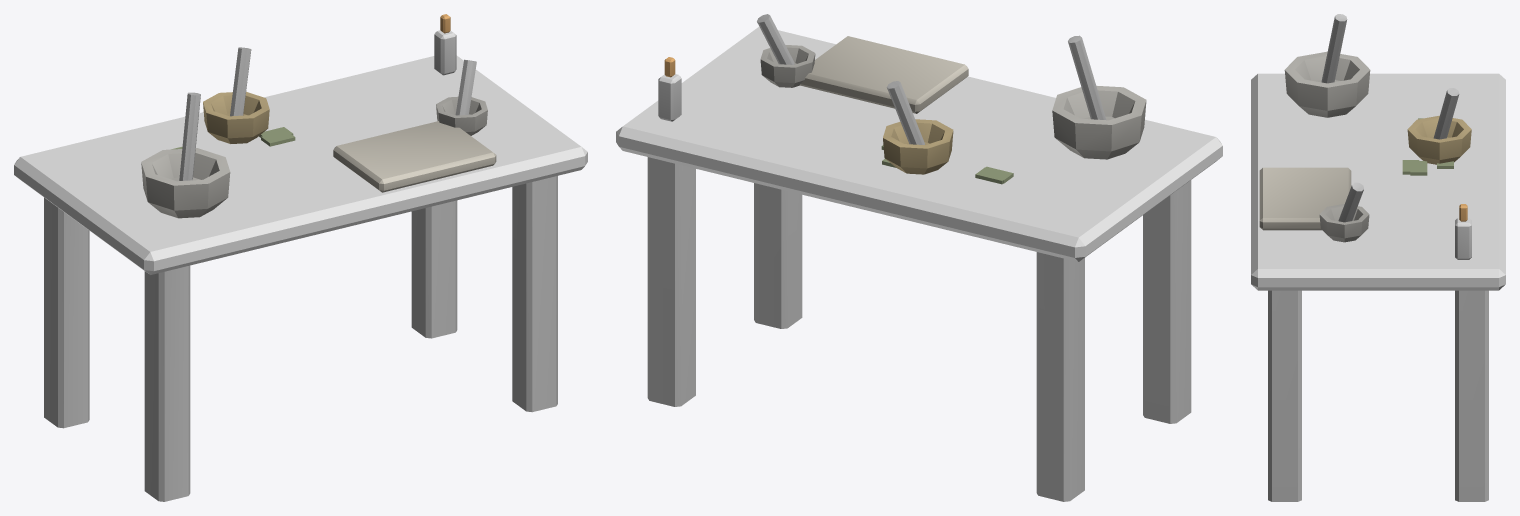
The model's file is lab_table.glb.
The picture shows the model from 3 angles, left to right: view 1: azimuth 30°, elevation 25°; view 2: azimuth 150°, elevation 25°; view 3: azimuth 270°, elevation 25°; orthographic projection. The views are drawn at different scales.
Parts seen in each view (by area): view 1: candle; view 2: candle; view 3: candle.
Boxes of the visible parts, x1,y1,x2,y2 form: candle: [14, 14, 587, 501]; candle: [616, 14, 1222, 501]; candle: [1251, 14, 1505, 501].
Size of the model in its own units: 1.4 by 1.1 by 0.75.
